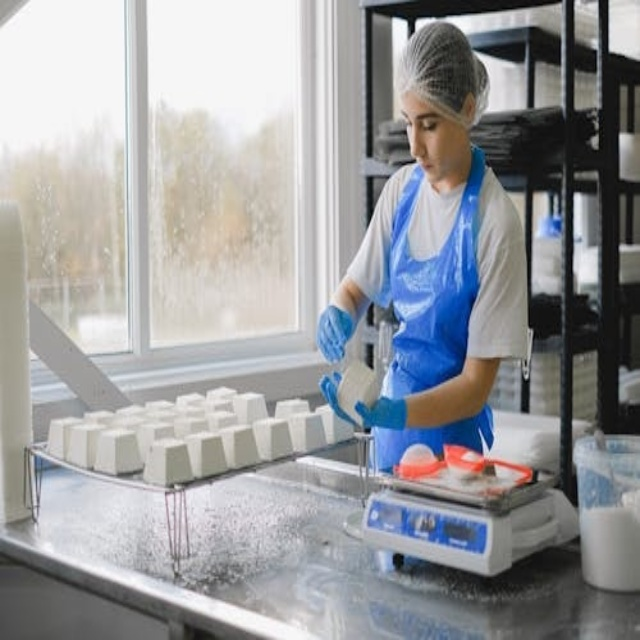Guantes: (316, 367, 406, 446), (315, 296, 358, 363)
Sin_gafas: (398, 104, 443, 144)
Sin_mascara: (412, 158, 445, 179)
